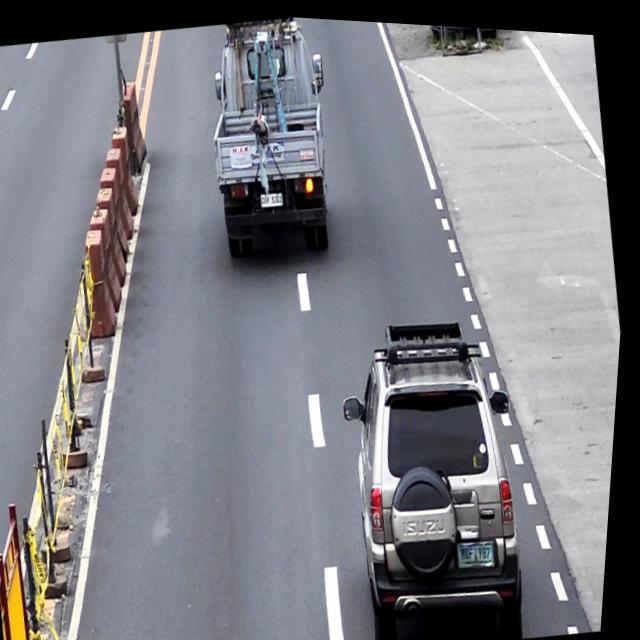Car: (337, 324, 549, 640)
License-Plate: (462, 530, 505, 569), (260, 186, 287, 208)
Truck: (193, 10, 347, 271)
